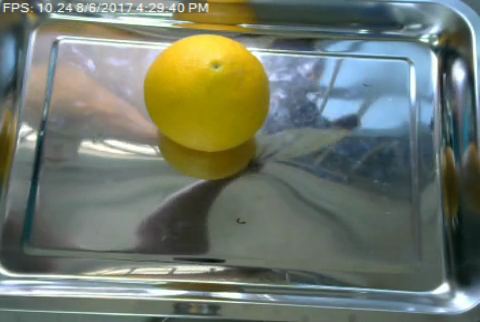Orange: (142, 33, 271, 151)
